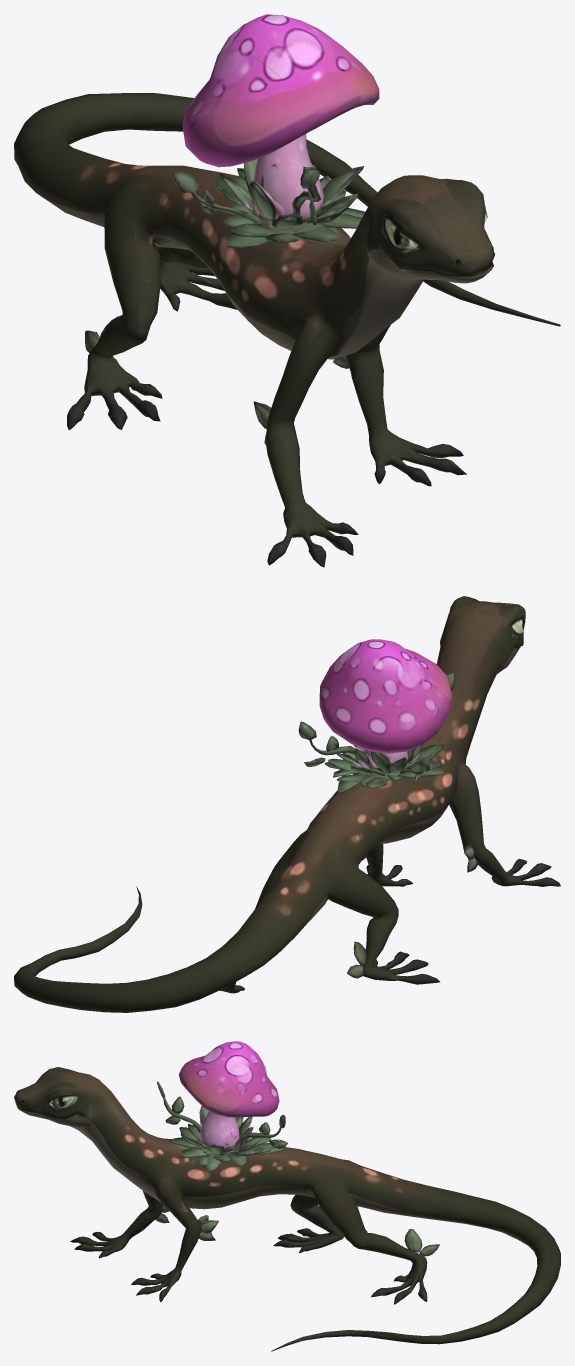
Rendered from Pok5. Sporecko.glb.
3 renders of one model, top to bottom at view 1: azimuth 30°, elevation 25°; view 2: azimuth 150°, elevation 25°; view 3: azimuth 270°, elevation 25°, orthographic. The views are drawn at different scales.
Size of the model in its own units: 0.5132 by 0.437 by 0.9565.
1 material, 1 textured.
